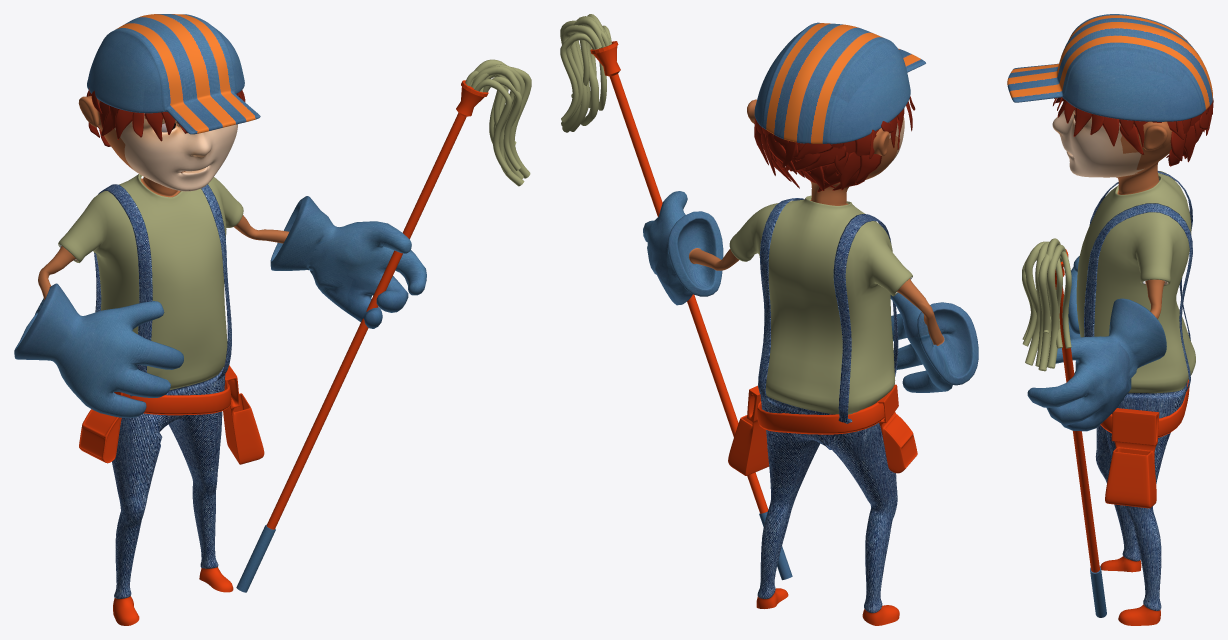
File: janitorpose.FBX
3 renders of one model, left to right at view 1: azimuth 30°, elevation 25°; view 2: azimuth 150°, elevation 25°; view 3: azimuth 270°, elevation 25°, orthographic. The views are drawn at different scales.
Visible parts, largest first — view 1: janitor1, hat, belt, Cylinder001, Line009, hairjanitor; view 2: janitor1, hat, belt, hairjanitor, Cylinder001, Line009; view 3: janitor1, hat, belt, Line009, hairjanitor, Cylinder001.
Boxes of the visible parts, x1,y1,x2,y2 form: janitor1: (14,95,426,625); hat: (87,14,260,134); belt: (79,365,264,464); Cylinder001: (236,80,488,592); Line009: (465,59,531,186); hairjanitor: (86,88,245,146); janitor1: (643,99,978,625); hat: (754,22,925,144); belt: (728,384,917,475); hairjanitor: (754,96,915,192); Cylinder001: (590,41,792,580); Line009: (560,14,611,132); janitor1: (1027,110,1195,625); hat: (1007,14,1212,121); belt: (1100,379,1189,508); Line009: (1022,238,1071,371); hairjanitor: (1053,97,1213,166); Cylinder001: (1055,249,1106,617).
Bounding box in the file's own units: 134 × 161 × 52.69.
Materials: 12 (4 with a texture image).
